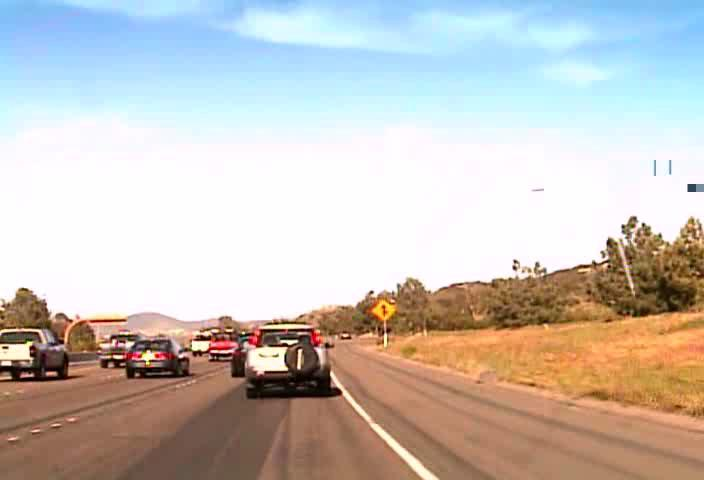merge: (370, 298, 396, 321)
